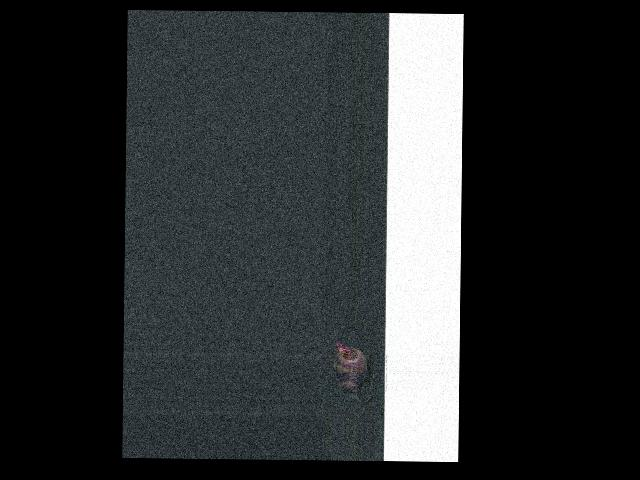beet: (333, 340, 374, 403)
